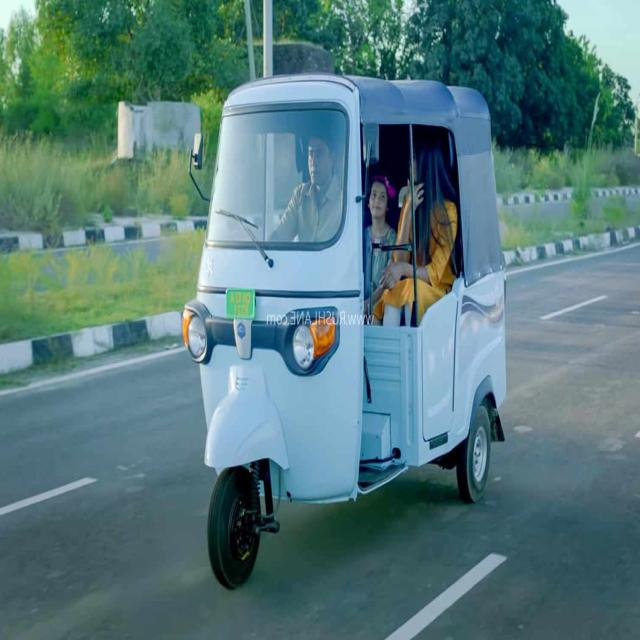autorickshaw: (181, 75, 506, 586)
